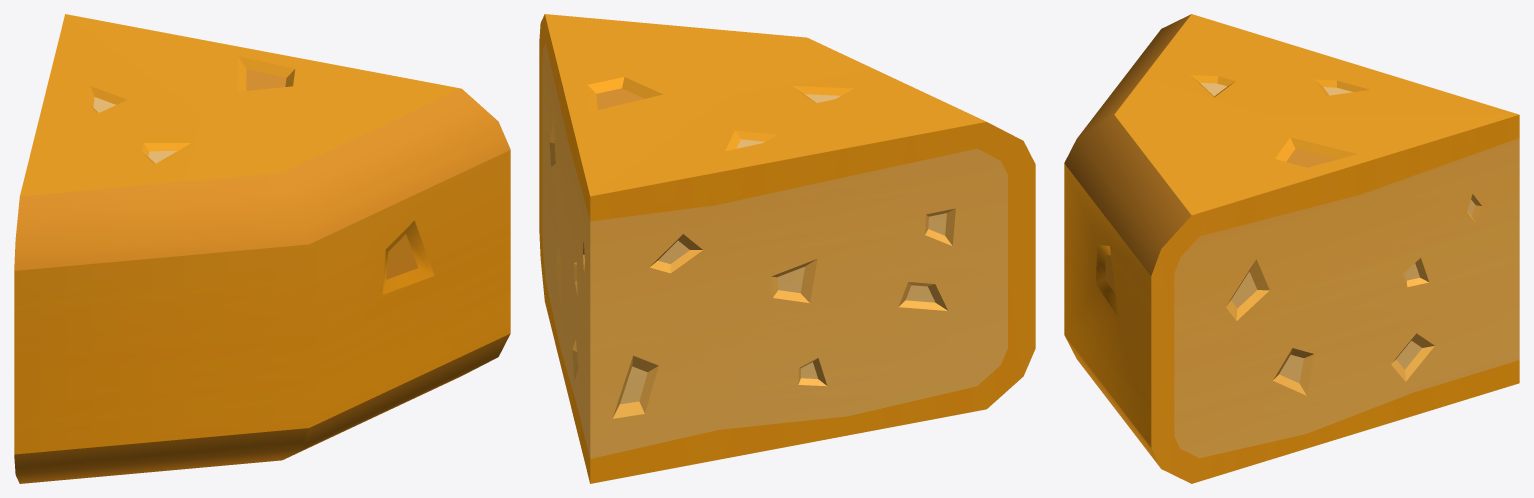
File: Cheese_3.glb
3 views of the same model, side by side, from view 1: azimuth 30°, elevation 25°; view 2: azimuth 150°, elevation 25°; view 3: azimuth 270°, elevation 25° (orthographic). The views are drawn at different scales.
Visible parts, largest first — view 1: Cheese_3; view 2: Cheese_3; view 3: Cheese_3.
Part boxes in pixels (box(x1,y1,x2,y2)): Cheese_3: box(14, 14, 510, 483); Cheese_3: box(539, 14, 1035, 483); Cheese_3: box(1064, 14, 1519, 483).
Size of the model in its own units: 0.3543 by 0.196 by 0.3014.
Materials: 1 (1 with a texture image).
